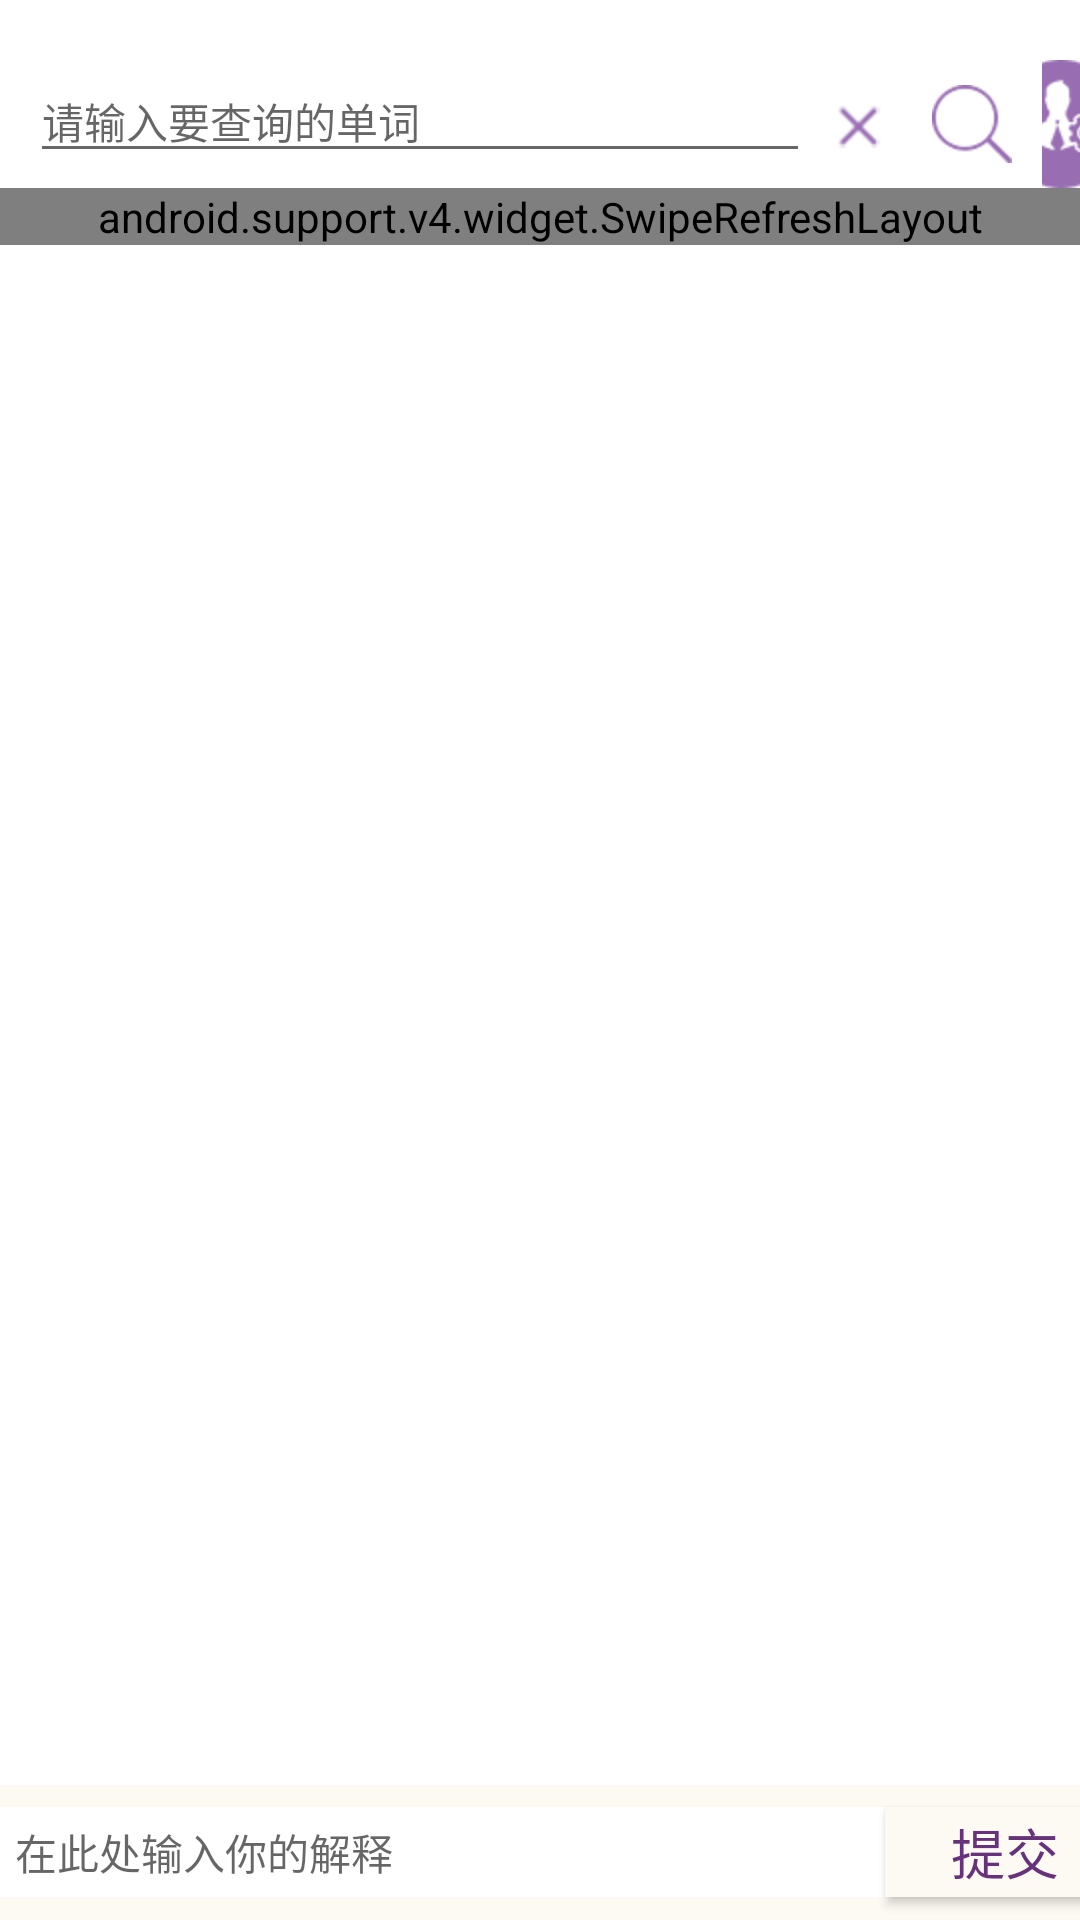

Where to tap for icons on this 1080w x 1920h app screen, as (x,y):
delete: (858,127)
magnifier: (972,124)
